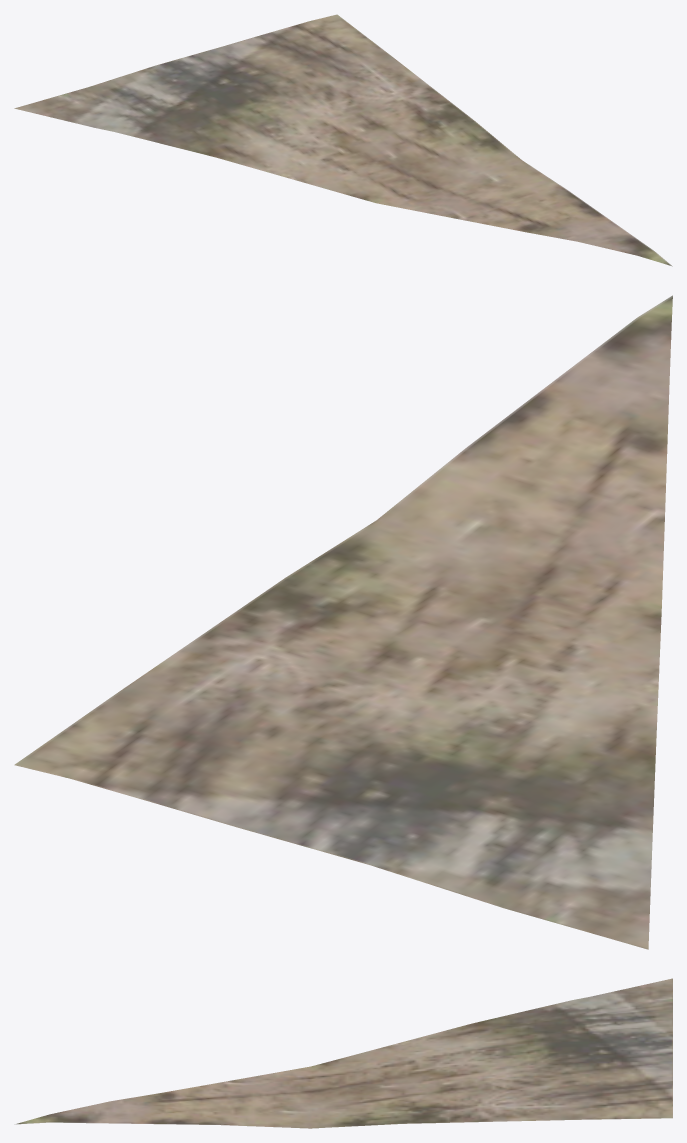
The model's file is CM_Terrain_24491278_6814879.fbx.
3 renders of one model, top to bottom at view 1: azimuth 30°, elevation 25°; view 2: azimuth 150°, elevation 25°; view 3: azimuth 270°, elevation 25°, orthographic. The views are drawn at different scales.
Parts seen in each view (by area): view 1: CM_Terrain_24491278_6814879_LOD0; view 2: CM_Terrain_24491278_6814879_LOD0; view 3: CM_Terrain_24491278_6814879_LOD0.
Boxes of the visible parts, <box> form: CM_Terrain_24491278_6814879_LOD0: <box>14,14,672,266</box>; CM_Terrain_24491278_6814879_LOD0: <box>14,295,672,949</box>; CM_Terrain_24491278_6814879_LOD0: <box>14,978,672,1128</box>.
Size of what is drawn, in the model's own units: 21.05 by 1.14 by 37.87.
